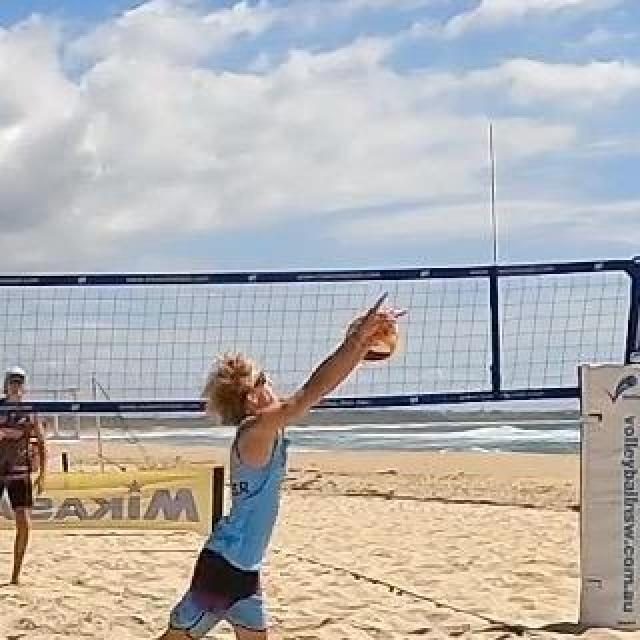volleyball: (346, 309, 398, 361)
